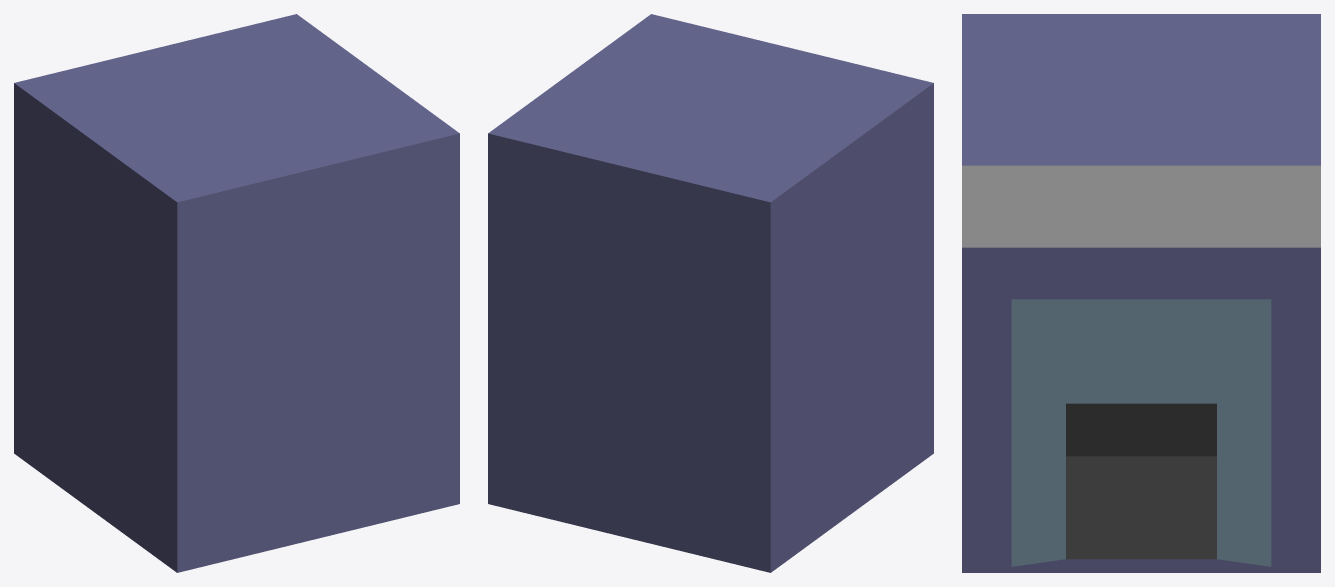
Rendered from ShoeShop.fbx.
3 renders of one model, left to right at view 1: azimuth 30°, elevation 25°; view 2: azimuth 150°, elevation 25°; view 3: azimuth 270°, elevation 25°, orthographic. The views are drawn at different scales.
Visible parts, largest first — view 1: Cube; view 2: Cube; view 3: Cube.
Part boxes in pixels (box(x1,y1,x2,y2)): Cube: box(14, 14, 459, 572); Cube: box(488, 14, 933, 572); Cube: box(962, 14, 1320, 572).
Bounding box in the file's own units: 416 × 521 × 416.
